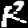R: (0, 0, 28, 28)
